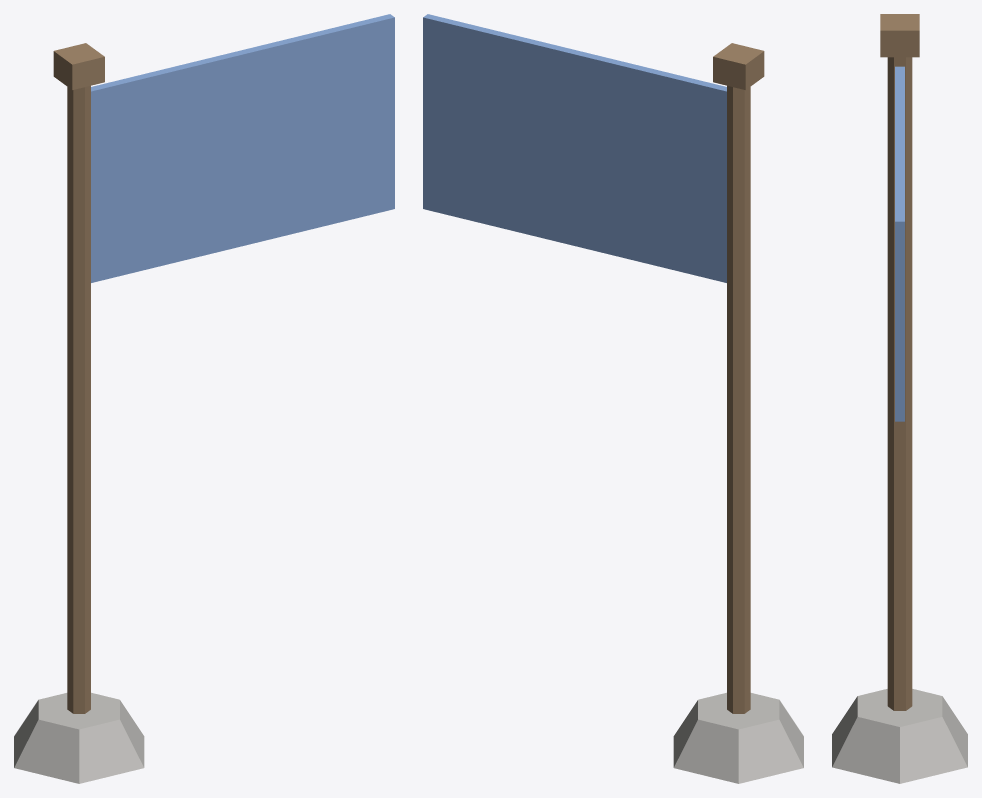
File: rally_flag.glb
3 views of the same model, side by side, from view 1: azimuth 30°, elevation 25°; view 2: azimuth 150°, elevation 25°; view 3: azimuth 270°, elevation 25° (orthographic). The views are drawn at different scales.
Parts seen in each view (by area): view 1: Cloth, Pole, Base; view 2: Cloth, Pole, Base; view 3: Pole, Base, Cloth.
Boxes of the visible parts, left/top/right/bottom form: Cloth: left=91, top=14, right=394, bottom=282; Pole: left=53, top=43, right=104, bottom=713; Base: left=14, top=692, right=144, bottom=783; Cloth: left=423, top=14, right=726, bottom=282; Pole: left=713, top=43, right=764, bottom=713; Base: left=673, top=692, right=803, bottom=783; Pole: left=880, top=14, right=919, bottom=710; Base: left=832, top=689, right=967, bottom=783; Cloth: left=895, top=66, right=904, bottom=421.
Size of the model in its own units: 0.93 by 1.64 by 0.2772.
